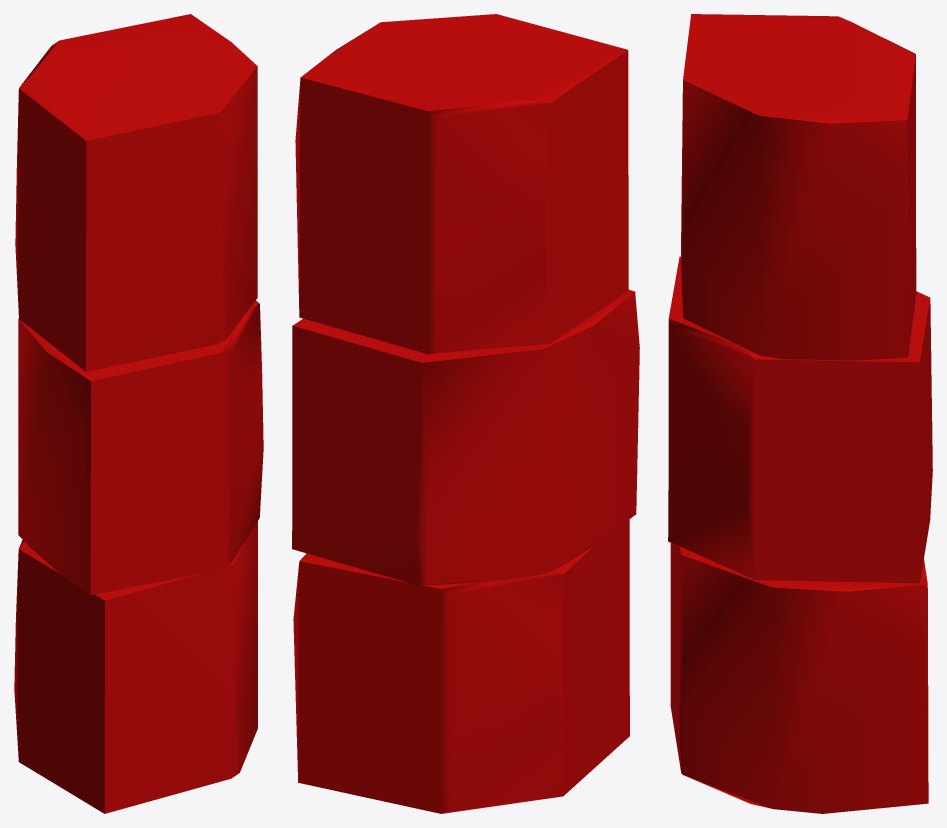
3 renders of one model, left to right at view 1: azimuth 30°, elevation 25°; view 2: azimuth 150°, elevation 25°; view 3: azimuth 270°, elevation 25°, orthographic. The views are drawn at different scales.
Visible parts, largest first — view 1: SM_GreatSword_Adamant_2h_01_LOD0; view 2: SM_GreatSword_Adamant_2h_01_LOD0; view 3: SM_GreatSword_Adamant_2h_01_LOD0.
Boxes of the visible parts, x1,y1,x2,y2 form: SM_GreatSword_Adamant_2h_01_LOD0: [14, 14, 263, 813]; SM_GreatSword_Adamant_2h_01_LOD0: [292, 14, 639, 813]; SM_GreatSword_Adamant_2h_01_LOD0: [668, 14, 932, 813].
Bounding box in the file's own units: 2.13 × 6.22 × 2.13.
